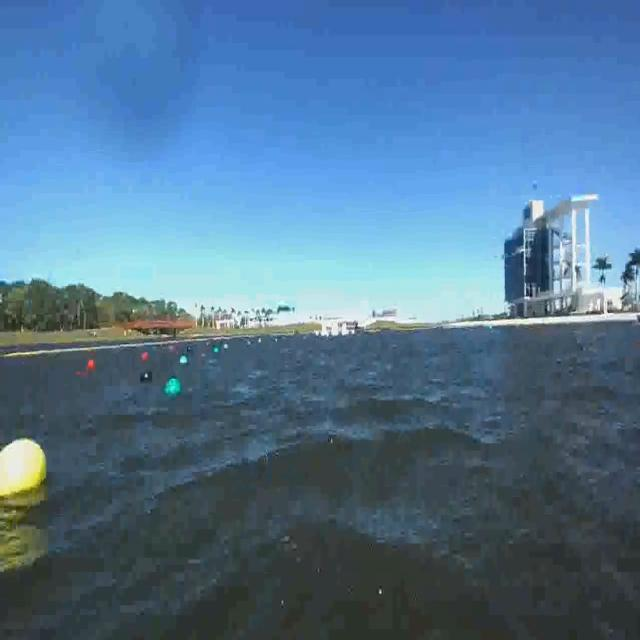black-buoy: (141, 371, 154, 382)
green-buoy: (164, 377, 179, 394), (180, 355, 187, 364)
red-buoy: (89, 360, 97, 370), (142, 352, 149, 362)
yellow-buoy: (0, 436, 48, 495)
